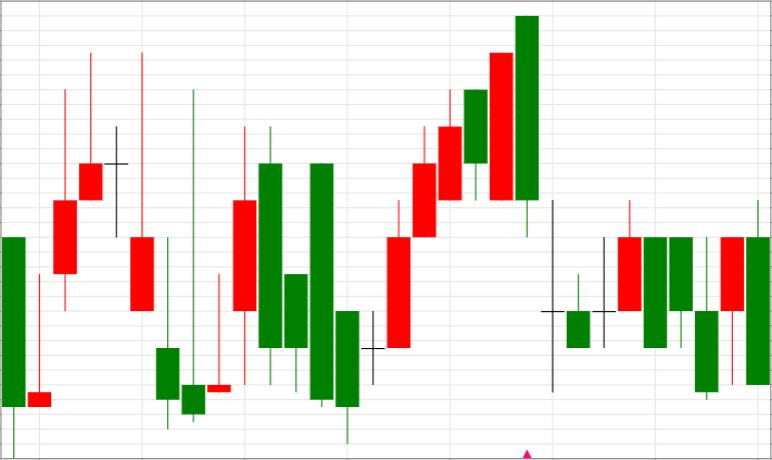bearish_engulfing_fall: (361, 16, 539, 384)
